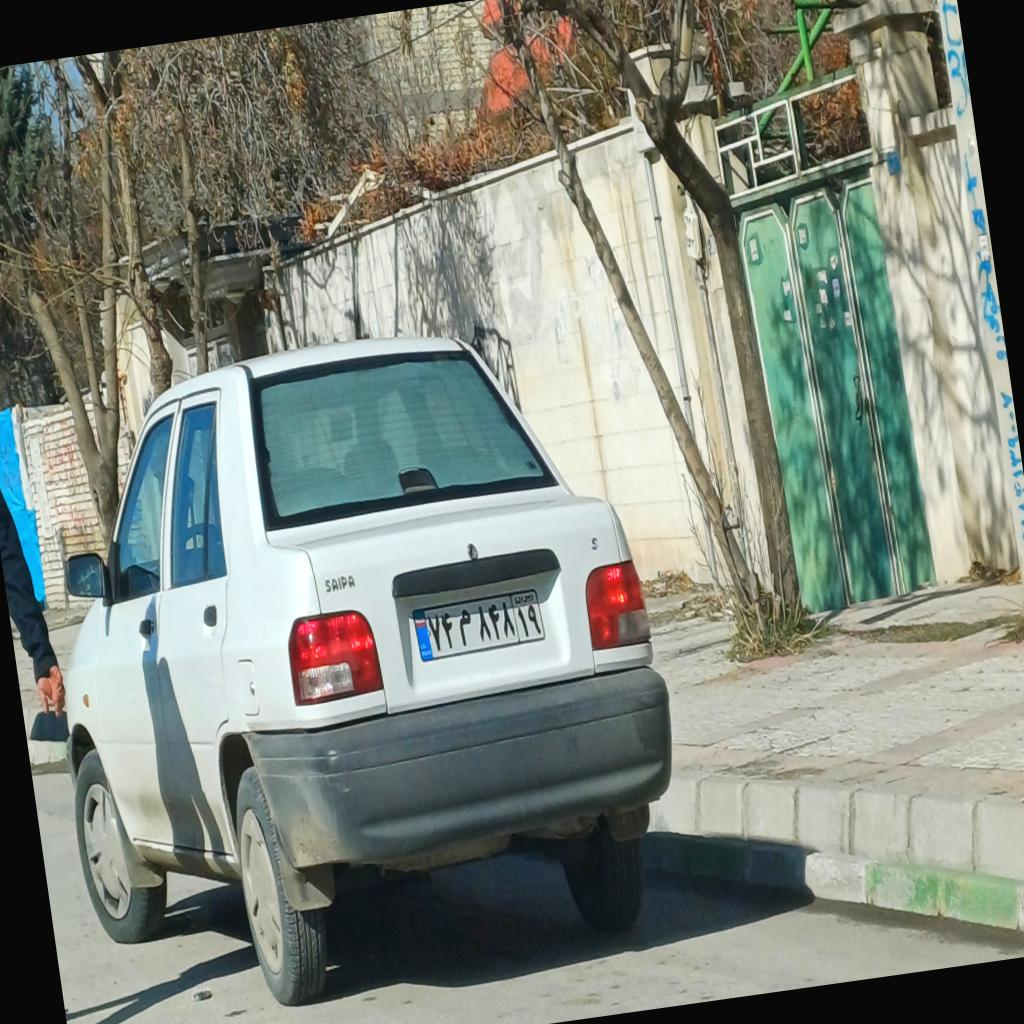Plates: (412, 588, 546, 664)
